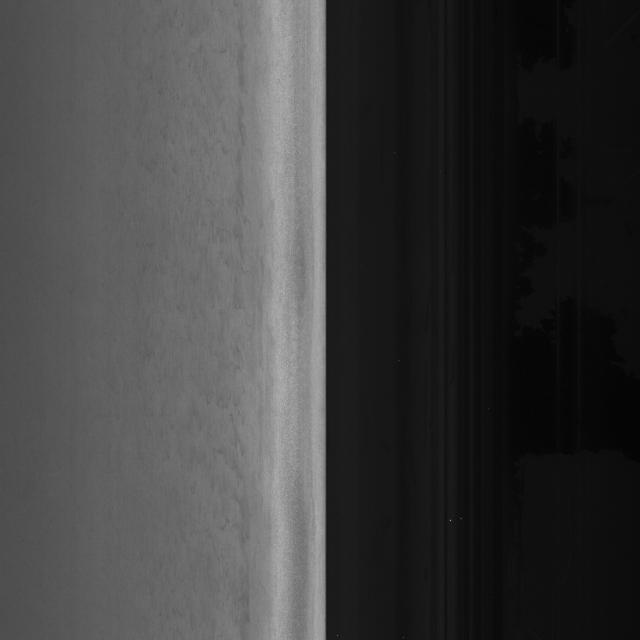inclusion: (178, 365, 266, 539)
